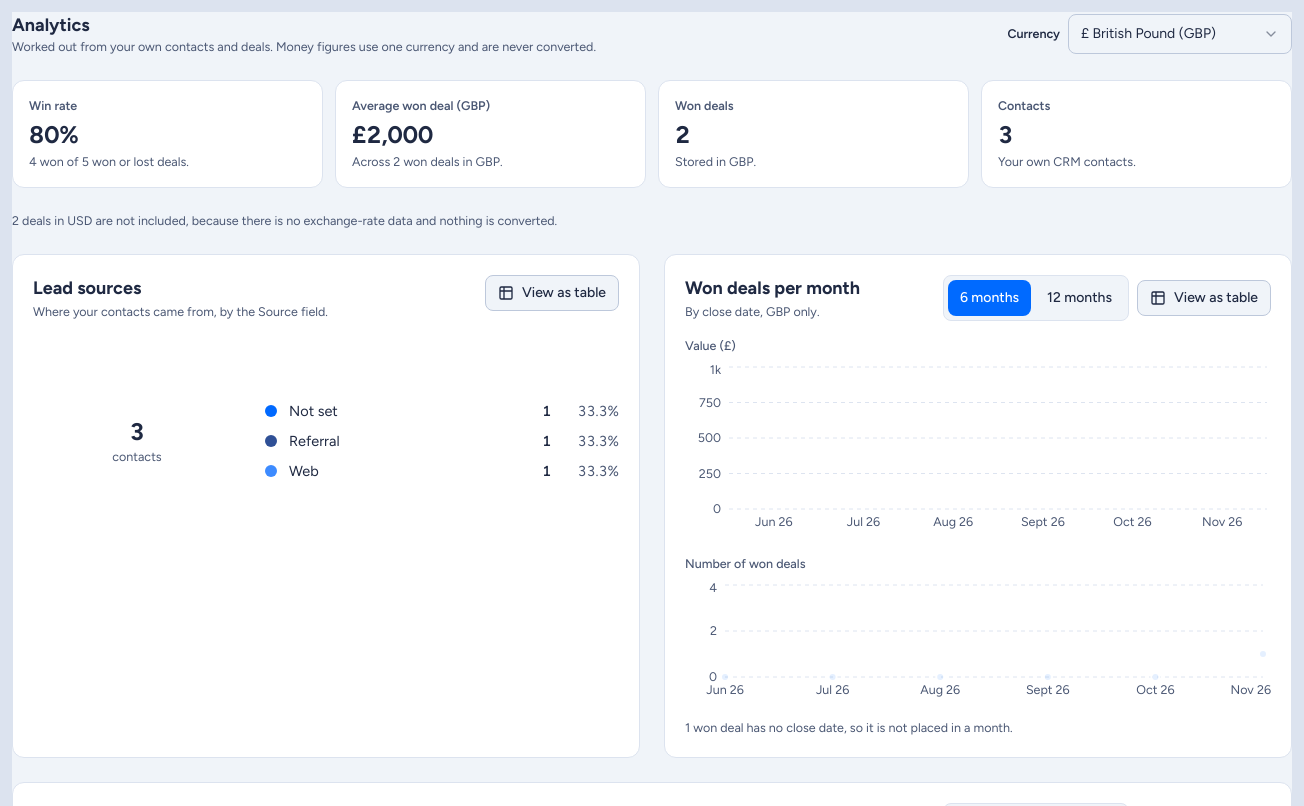
it: Analytics › every chart can be read as a real table
Click the button "View as table" in the row of "Lead sources" at (552, 293), box x1=485 y1=275 x2=619 y2=311
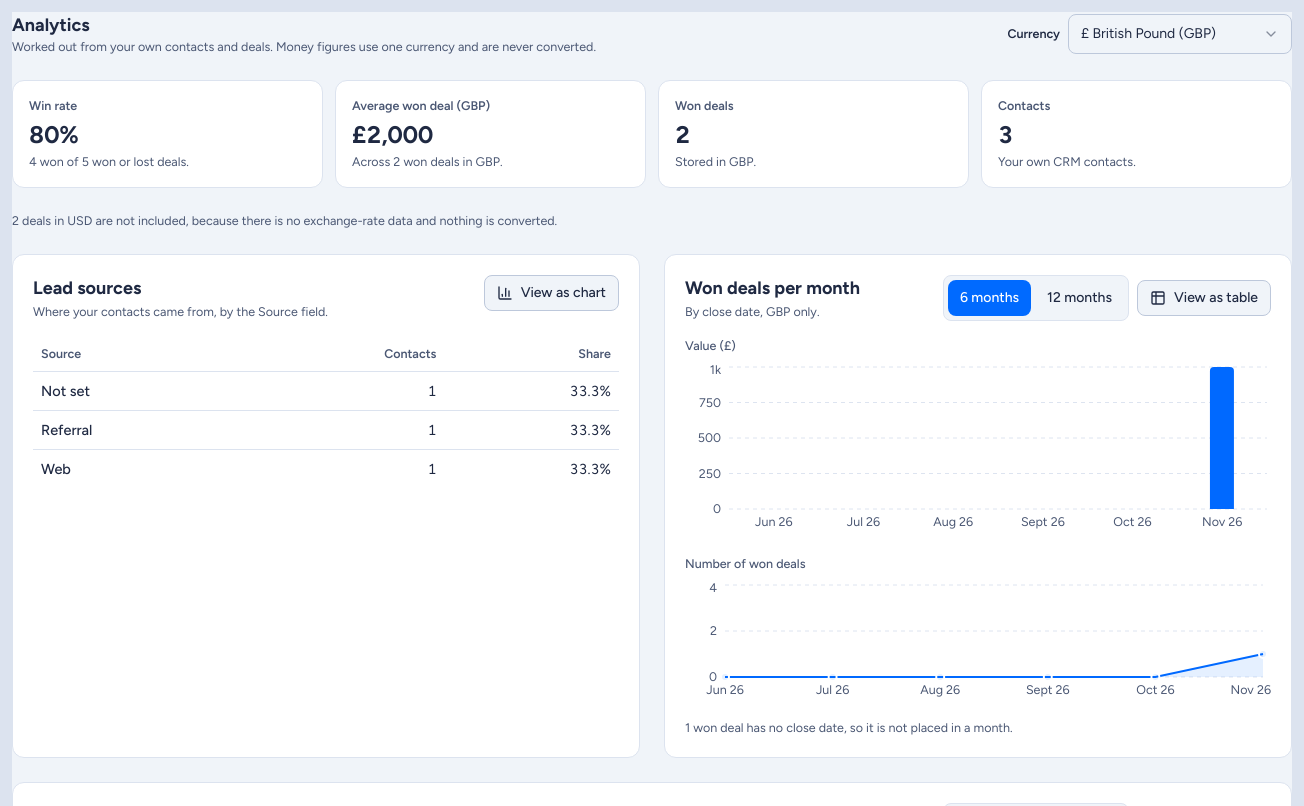
Expected: the column heading "Not set" is shown, x1=33 y1=372 x2=237 y2=410
Expected: the text "33.3%" is shown 3 times, x1=444 y1=372 x2=619 y2=410; x1=444 y1=410 x2=619 y2=450; x1=444 y1=450 x2=619 y2=488
